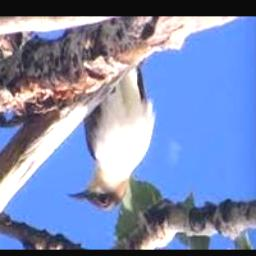Cuckoo: (65, 66, 155, 210)
